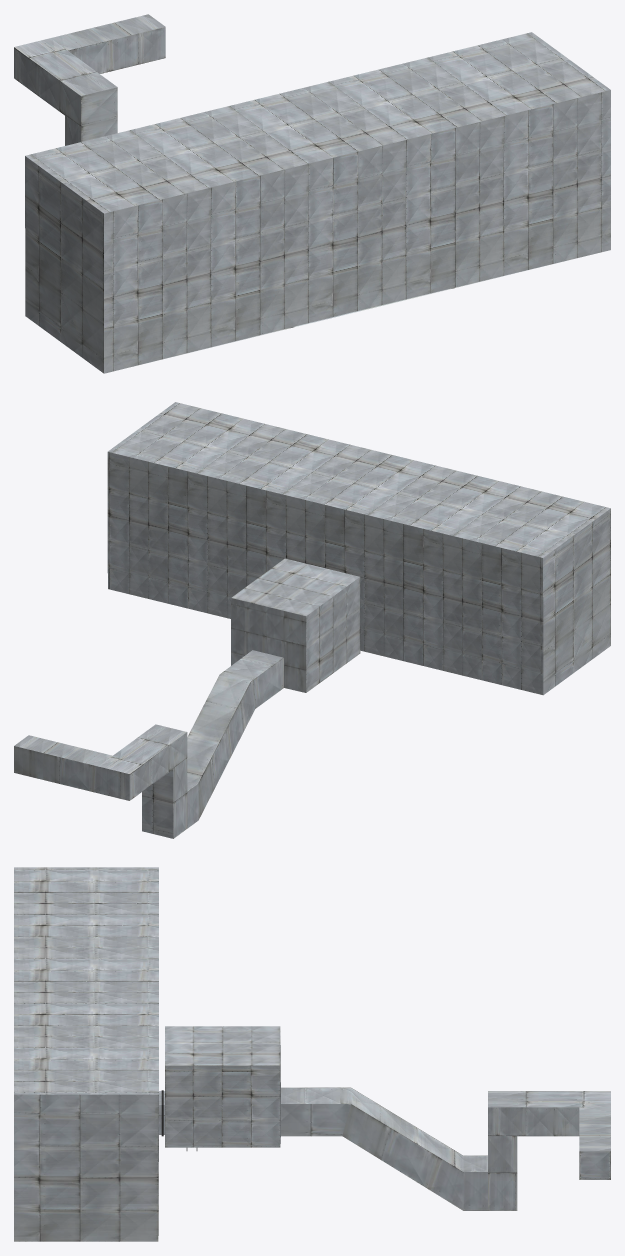
File: vent_shaft.glb
3 views of the same model, one above another, from view 1: azimuth 30°, elevation 25°; view 2: azimuth 150°, elevation 25°; view 3: azimuth 270°, elevation 25° (orthographic). The views are drawn at different scales.
Parts seen in each view (by area): view 1: Ventalation Shaft; view 2: Ventalation Shaft; view 3: Ventalation Shaft.
Part boxes in pixels (x1=…): Ventalation Shaft: x1=14, y1=14, x2=610, y2=373; Ventalation Shaft: x1=14, y1=402, x2=610, y2=838; Ventalation Shaft: x1=14, y1=867, x2=610, y2=1241.
Bounding box in the file's own units: 10.36 × 4.72 × 11.51.
Materials: 4 (3 with a texture image).
